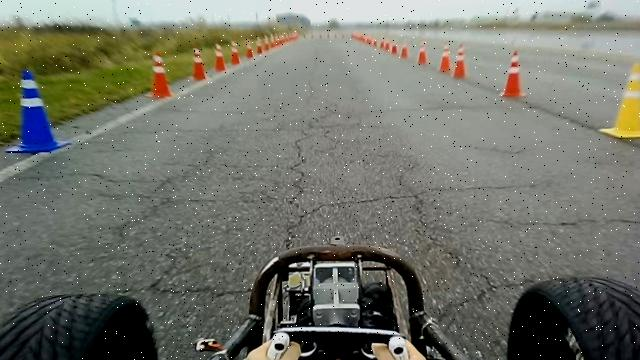blue cone: (5, 69, 71, 154)
red cone: (499, 50, 527, 98), (144, 52, 172, 100), (452, 43, 468, 79), (191, 46, 206, 81), (438, 43, 452, 74), (213, 42, 226, 73), (416, 39, 428, 66), (229, 40, 241, 66), (400, 38, 410, 60), (245, 38, 254, 59)
yellow cone: (598, 61, 640, 139), (617, 62, 640, 129)
